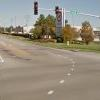Tree: (32, 12, 84, 43)
